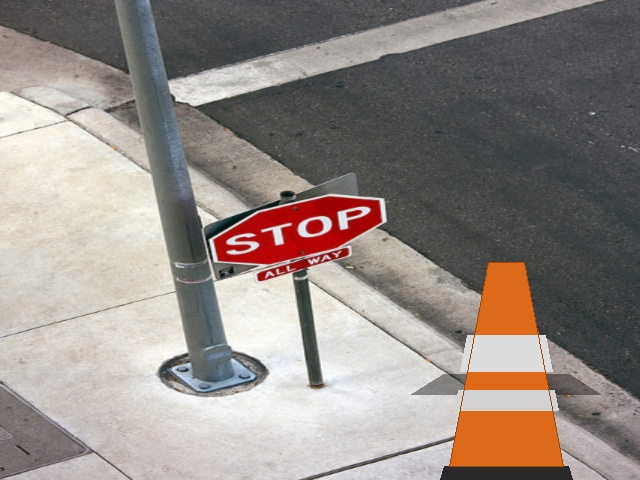traffic-cone: (438, 262, 574, 479)
